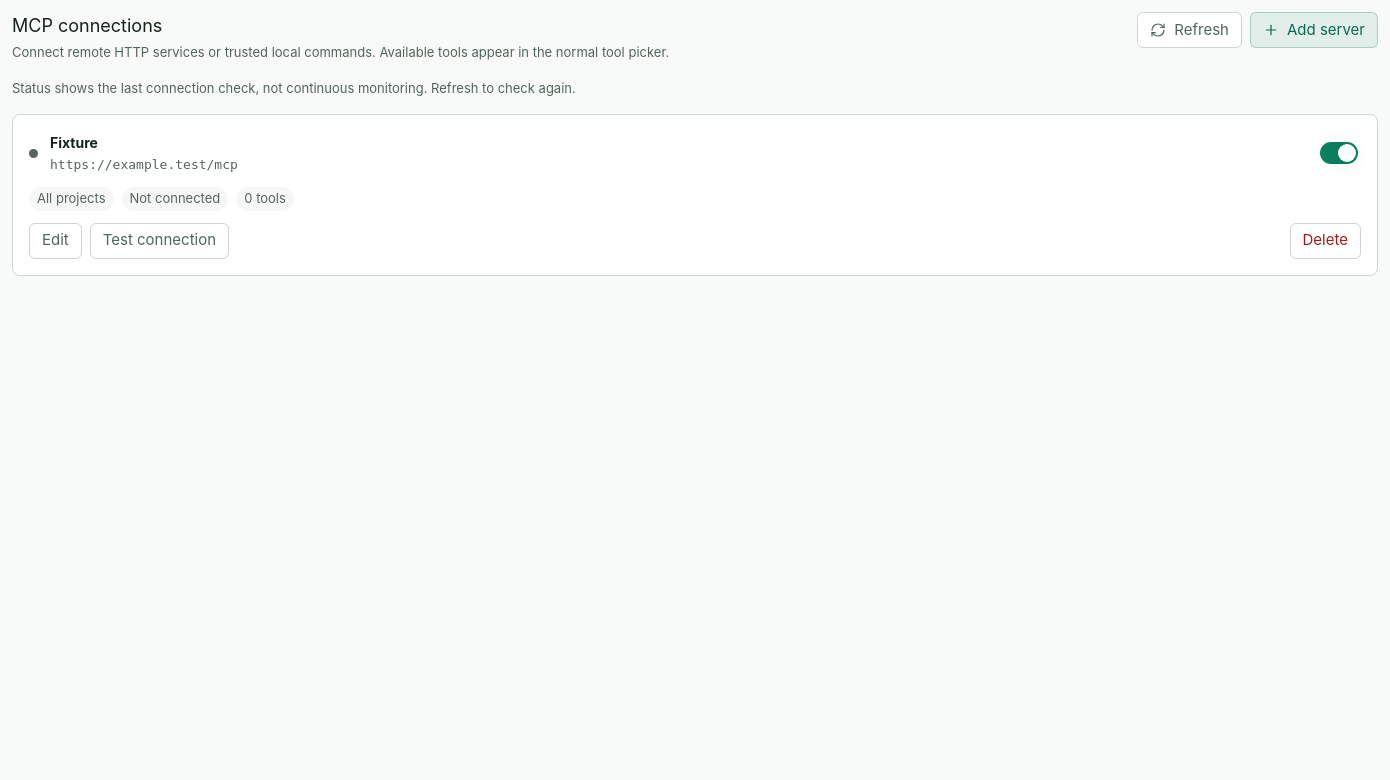
it: MCP draft conflict and save lifecycle › focuses Name after a delayed conflict reload commits the enabled fieldset
Click the button "Edit" at (55, 240), box [29,222,82,258]
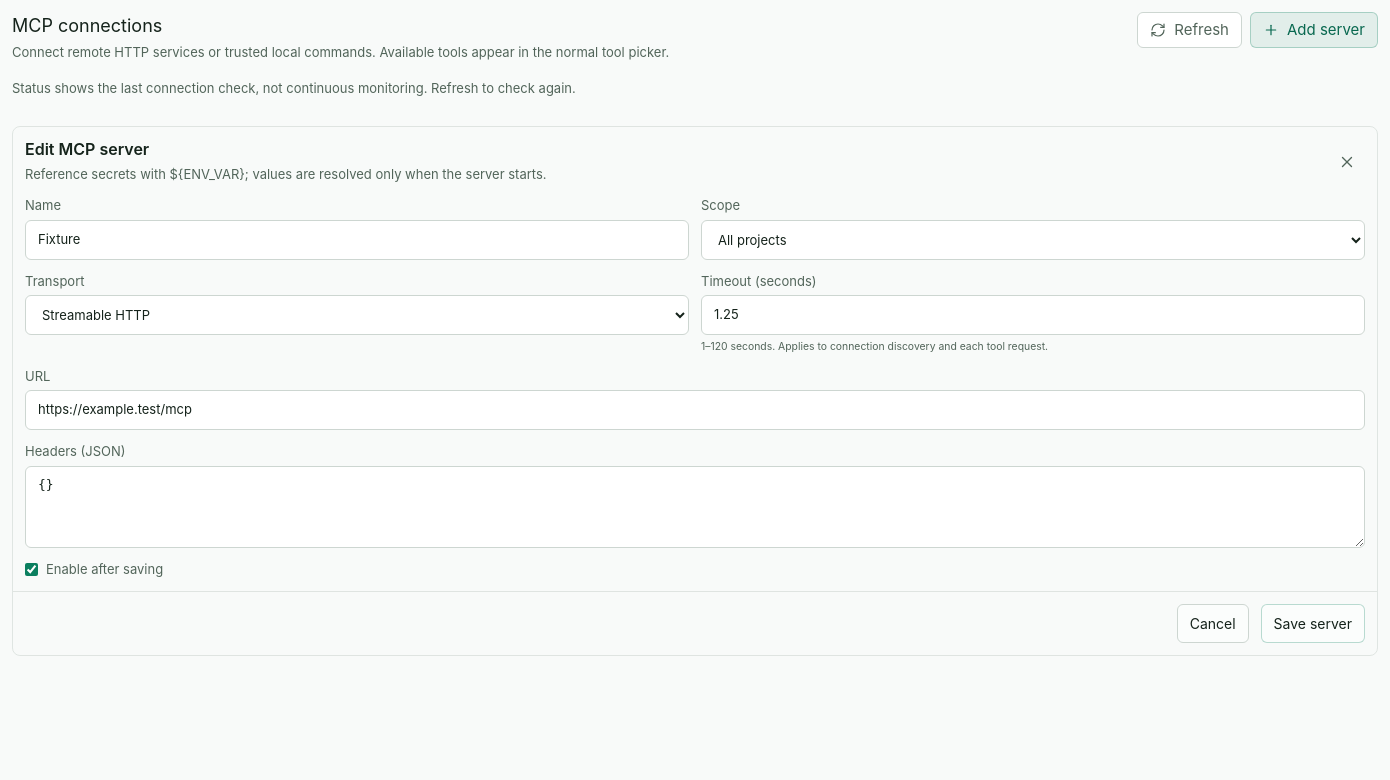
Click the button "Save server" at (1313, 624), box [1261,604,1365,643]
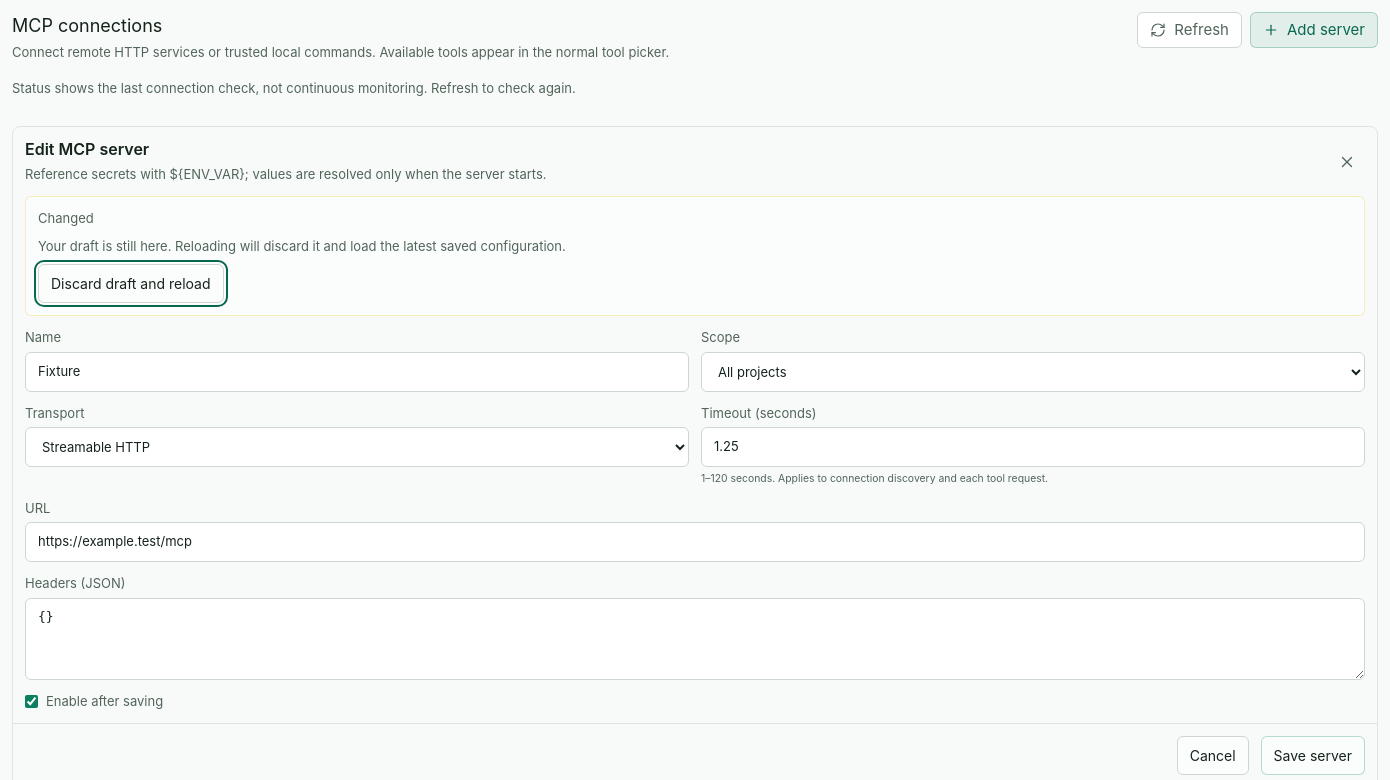
Click the button "Discard draft and reload" at (131, 284), box [38,264,224,303]
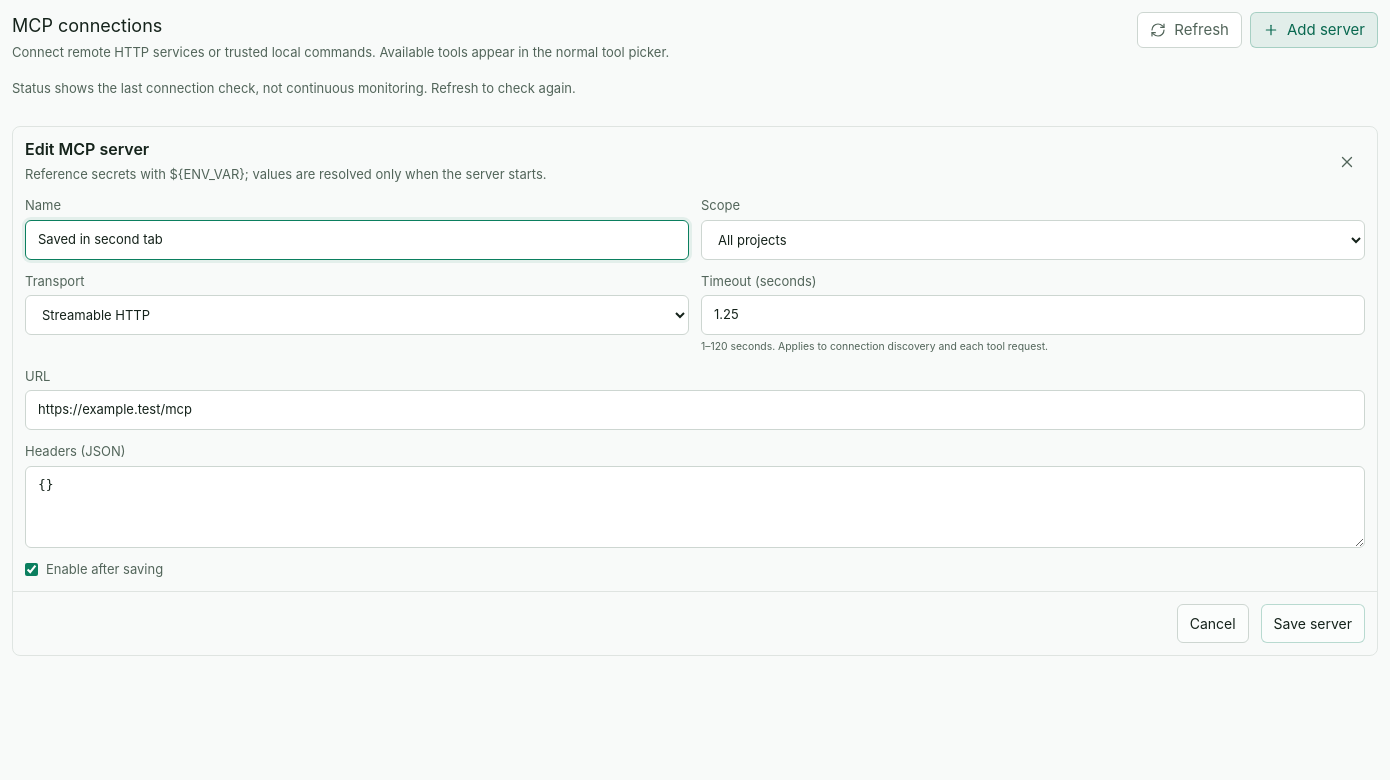
Check: the field labelled "Name" holds "Saved in second tab", box [25,220,689,260]
Check: the message "Changed" is gone
